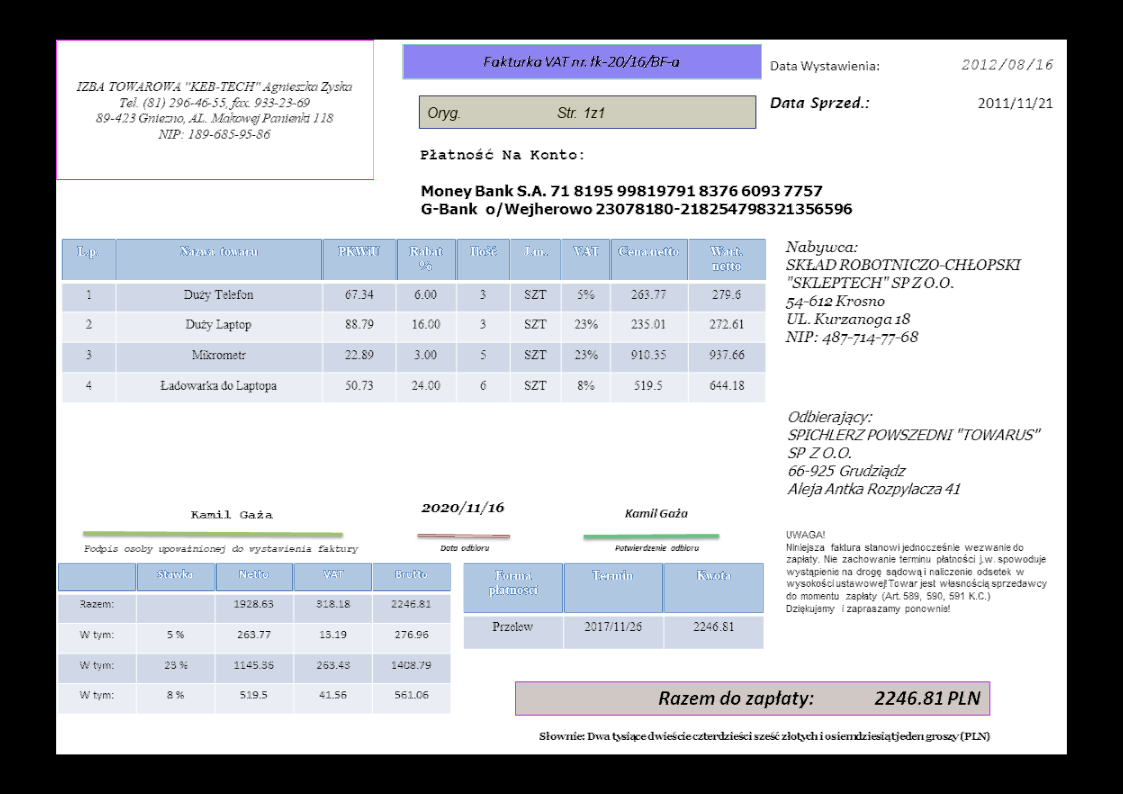Table: (60, 236, 766, 404), (57, 562, 451, 714), (462, 561, 764, 650)
TextBox: (782, 237, 1024, 348), (784, 407, 1046, 500), (782, 527, 1052, 617), (74, 75, 354, 143), (418, 180, 855, 220), (655, 686, 984, 710), (536, 727, 992, 744), (81, 541, 360, 557), (478, 52, 683, 72), (425, 103, 608, 123), (416, 146, 585, 165), (766, 94, 877, 114), (959, 55, 1056, 74), (767, 57, 882, 73), (418, 498, 506, 517), (188, 507, 278, 523), (974, 95, 1056, 112), (612, 540, 700, 554), (620, 505, 691, 521), (437, 542, 493, 554)
